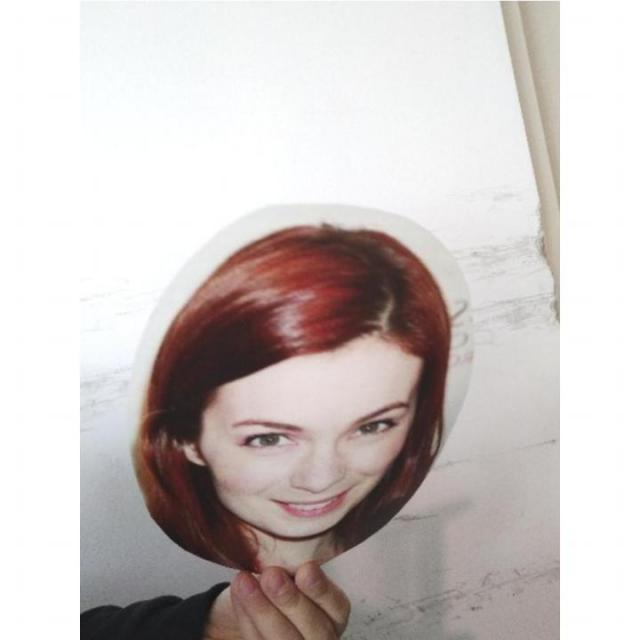photo: (118, 191, 480, 584)
